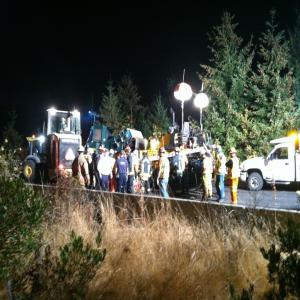none: (101, 150, 106, 158), (120, 152, 125, 159)
red: (159, 147, 166, 158), (175, 148, 181, 156), (126, 147, 131, 155)
white: (201, 150, 206, 159), (90, 149, 95, 157), (61, 119, 66, 126)
yellow: (230, 148, 237, 159), (79, 146, 85, 156), (110, 150, 115, 158), (143, 151, 148, 159)
